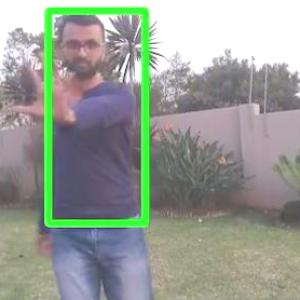follow_hand: (11, 50, 67, 120)
